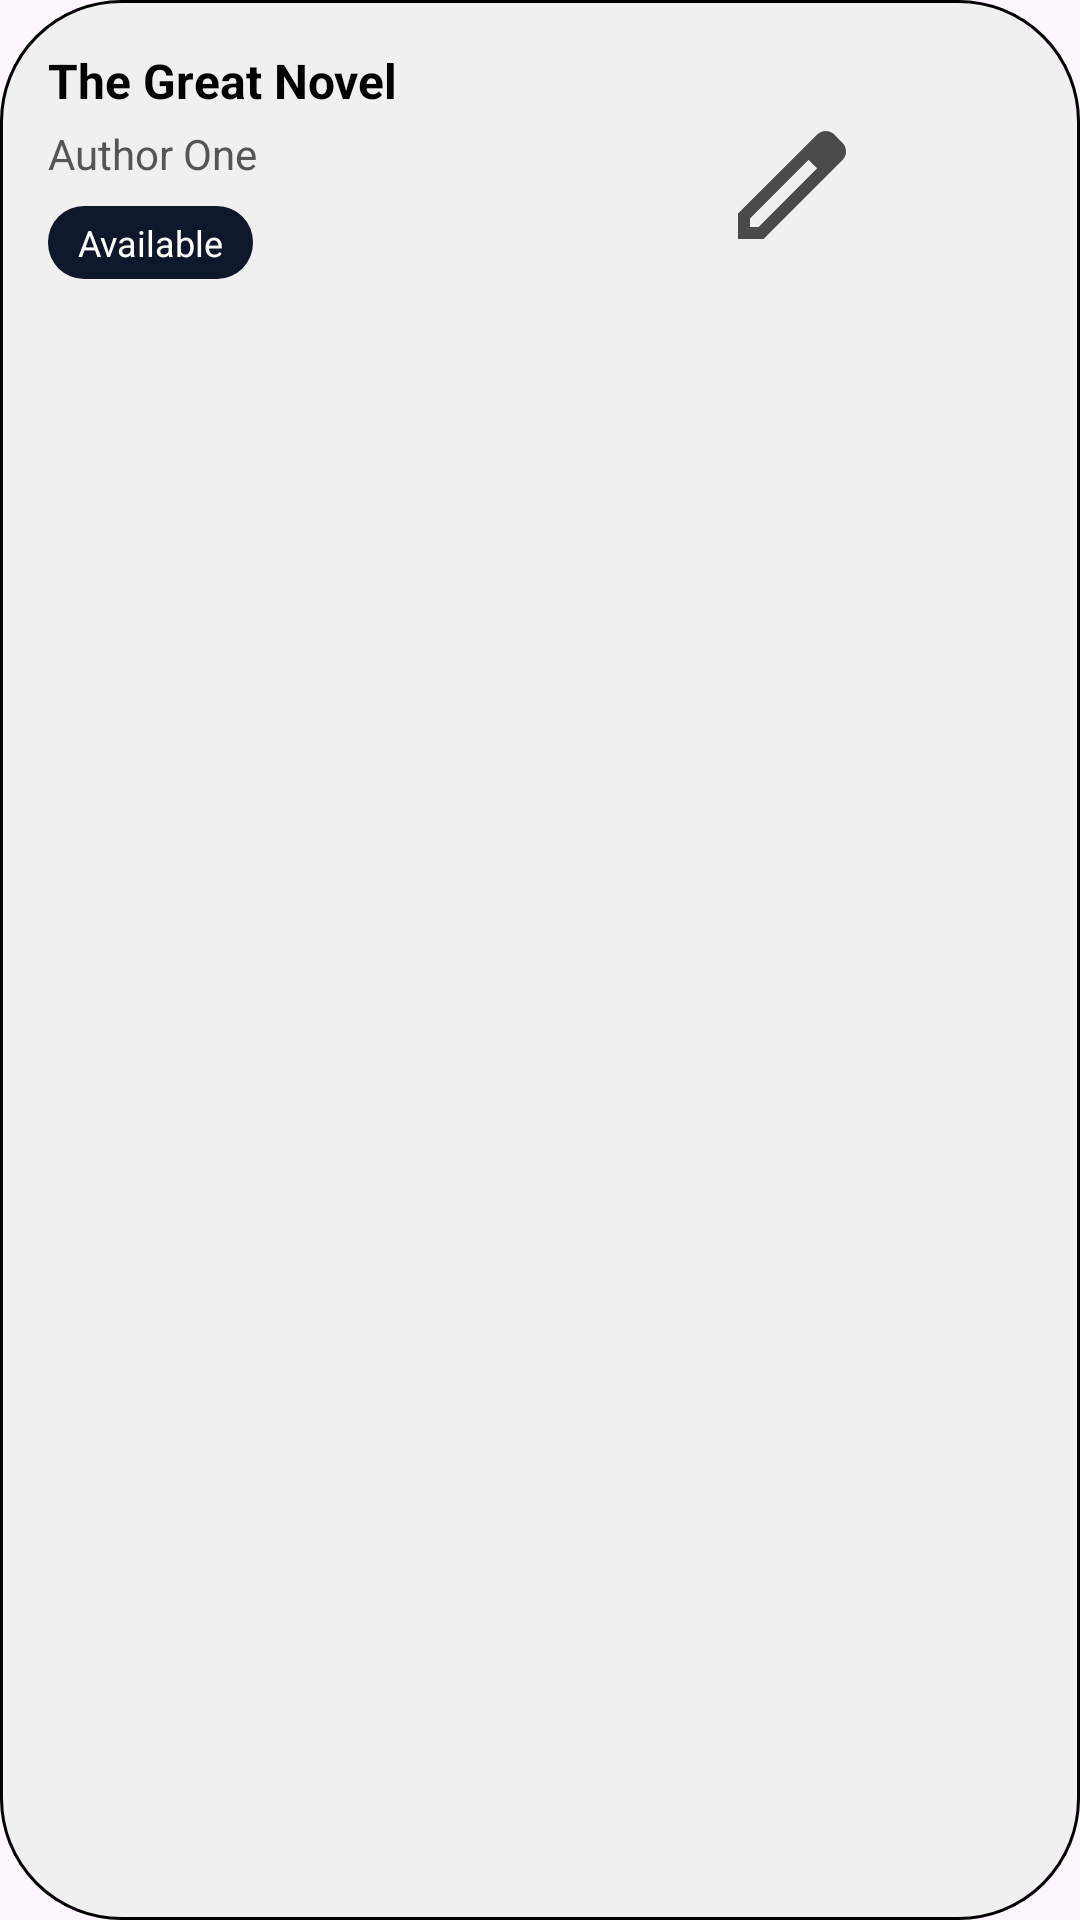

Icon click points for this 1080 x 1920 phone screenshot, format (x,y):
Edit: (792,185)
